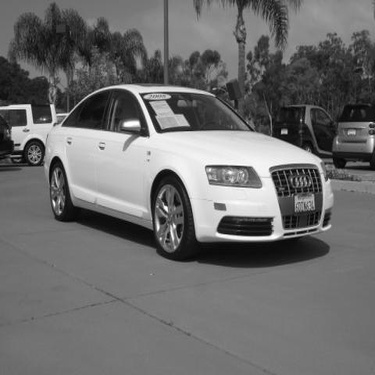car: (42, 81, 343, 268), (264, 102, 345, 165), (1, 102, 63, 165), (325, 96, 371, 169), (1, 110, 18, 170)
